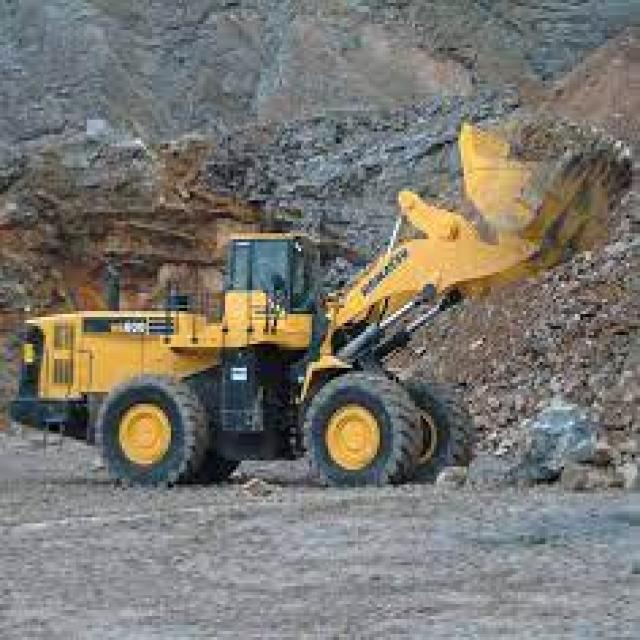buldozerpayloadergrader: (6, 121, 636, 494)
